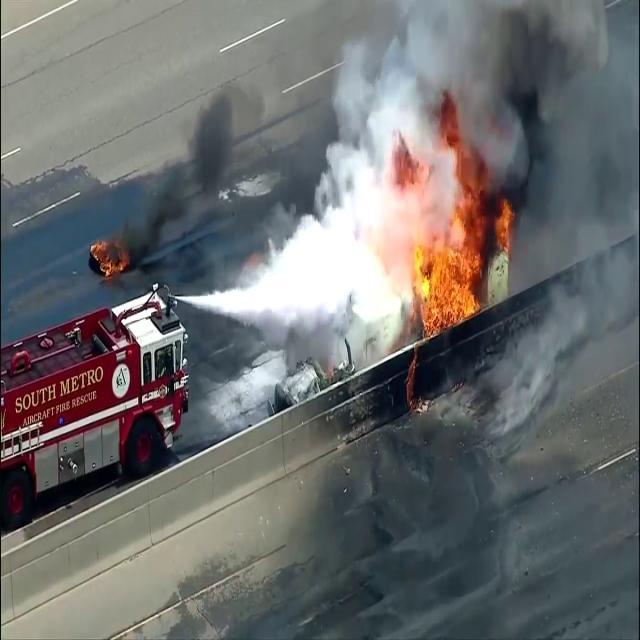Fire: (396, 190, 490, 340), (87, 236, 129, 282), (495, 192, 515, 273)
Smoke: (310, 1, 636, 251), (124, 47, 402, 300)
